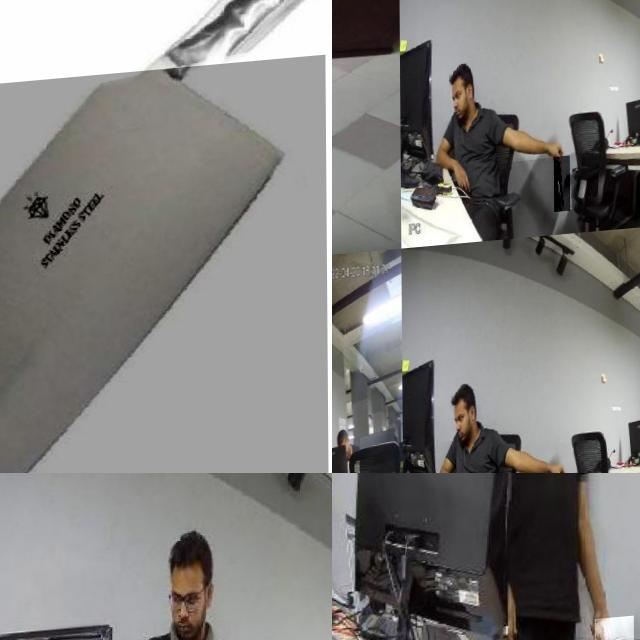-: (0, 64, 327, 473), (332, 61, 446, 139), (554, 165, 570, 221), (0, 0, 18, 45), (593, 621, 633, 640)
